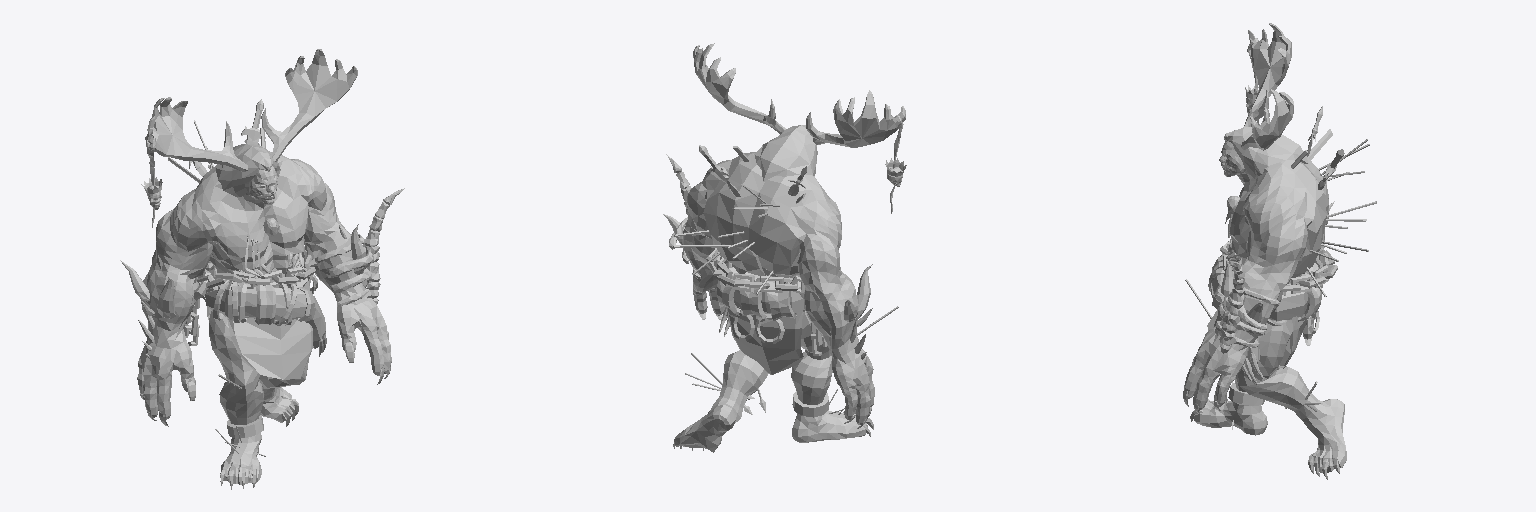
The model's file is walking_000031.obj.
The picture shows the model from 3 angles: view 1: azimuth 30°, elevation 25°; view 2: azimuth 150°, elevation 25°; view 3: azimuth 270°, elevation 25°; orthographic projection.
Visible parts, largest first — view 1: MAW; view 2: MAW; view 3: MAW.
Boxes of the visible parts, x1=… form: MAW: x1=120, y1=49, x2=404, y2=489; MAW: x1=663, y1=43, x2=906, y2=452; MAW: x1=1183, y1=23, x2=1376, y2=479.
Bounding box in the file's own units: 15.55 × 23.11 × 10.42.